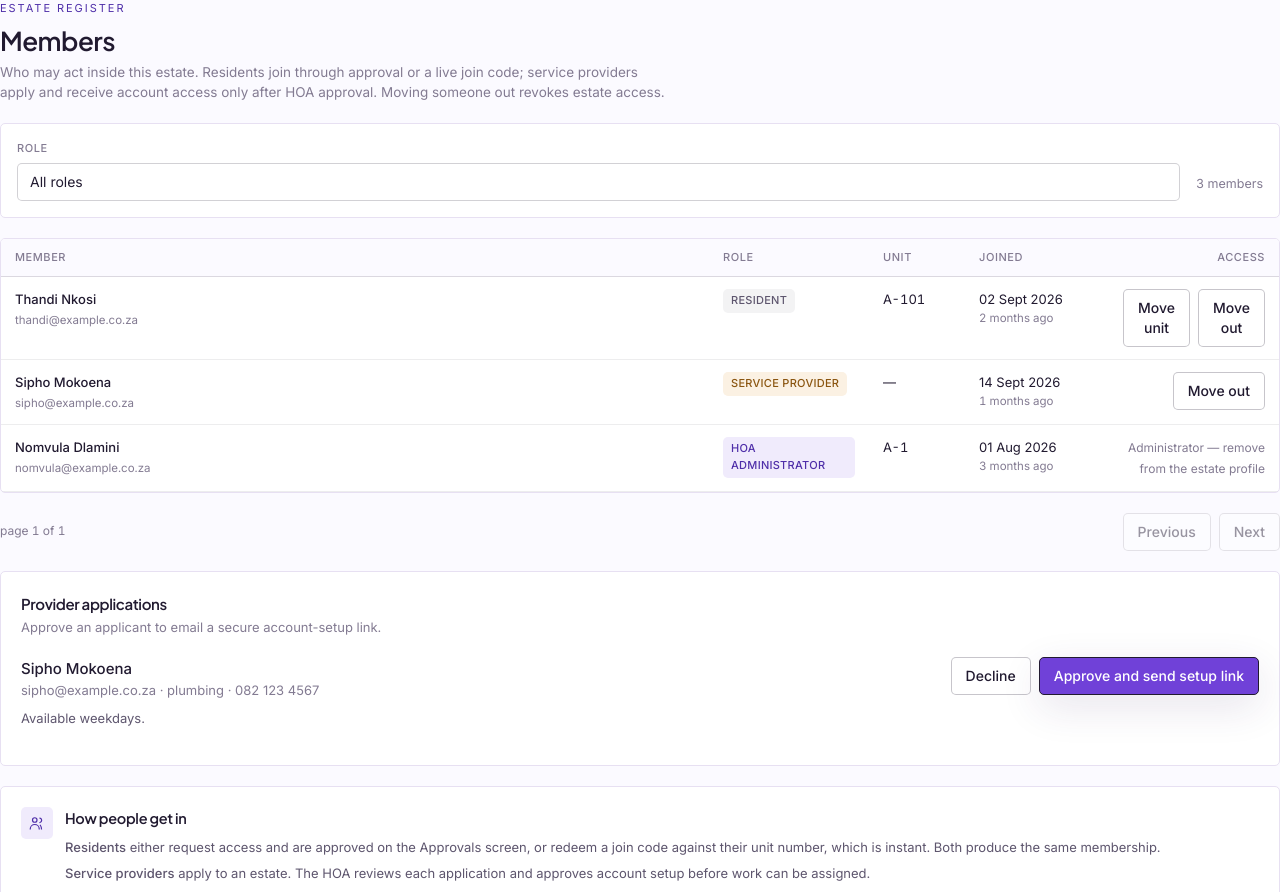
Members — reviewing provider applications › shows applicants to the HOA and provisions an account only after approval
The image size is (1280, 892).
Expected: the text "Sipho Mokoena" is shown 2 times, [15,374,111,390]; [21,659,132,678]
Expected: the text "Available weekdays." is shown, [21,710,145,726]
Click the button "Approve and send setup link".
click(1149, 676)  # box [1039,657,1259,695]
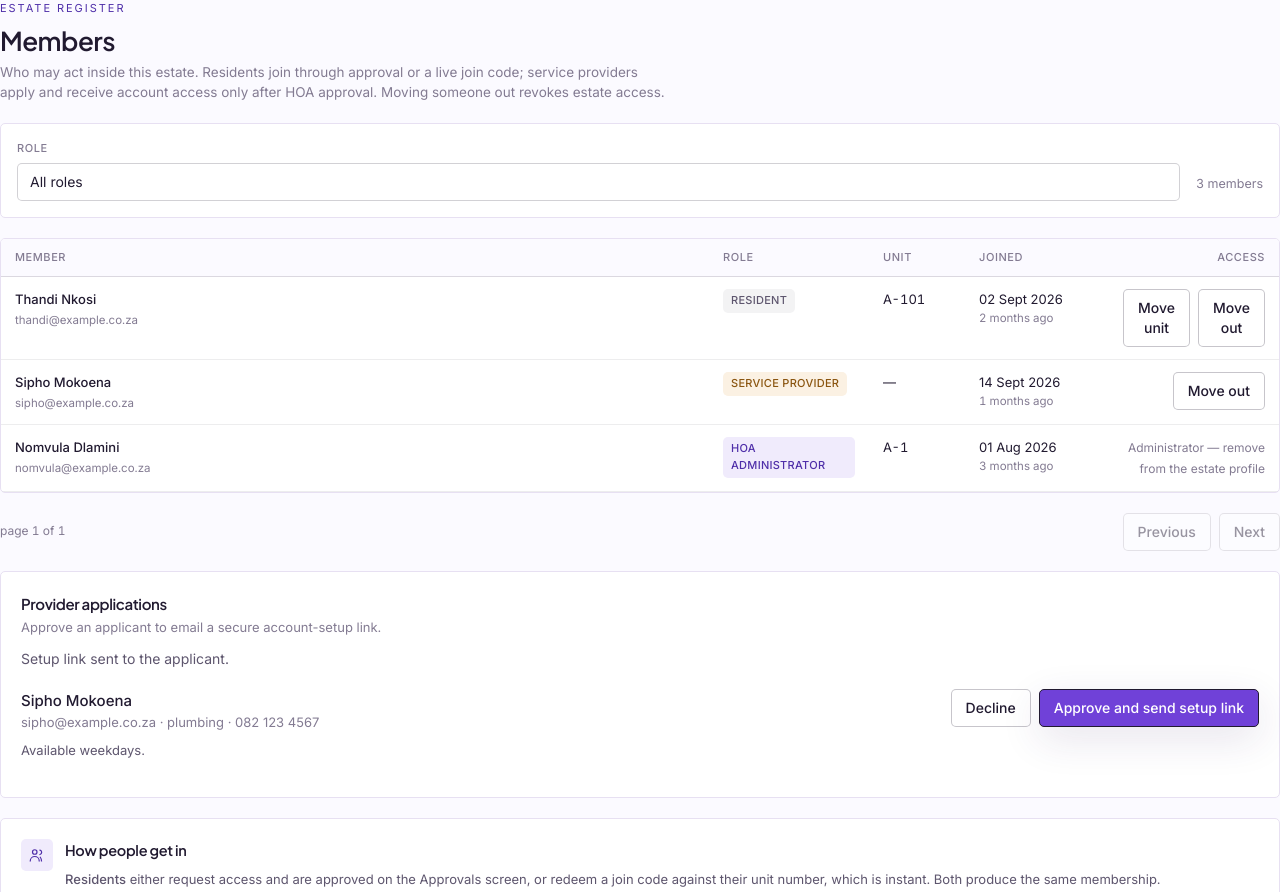
Expected: the message shows "Setup link sent", [21,650,229,667]
